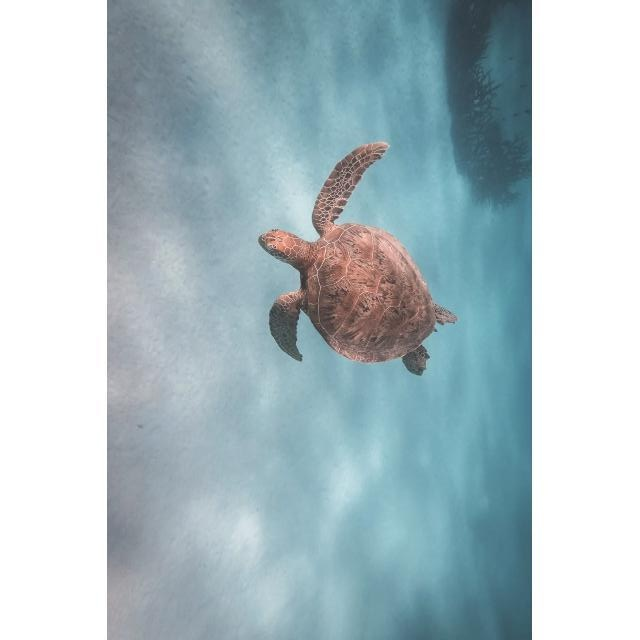turtle: (256, 143, 459, 376)
